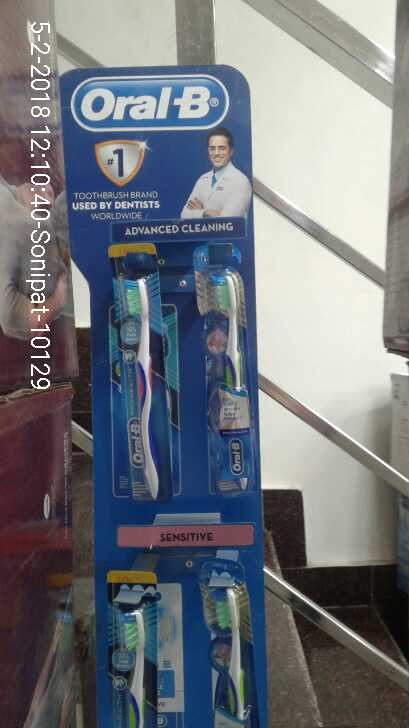oralb: (199, 258, 255, 489), (113, 268, 164, 500), (198, 578, 246, 728), (107, 583, 151, 728)
